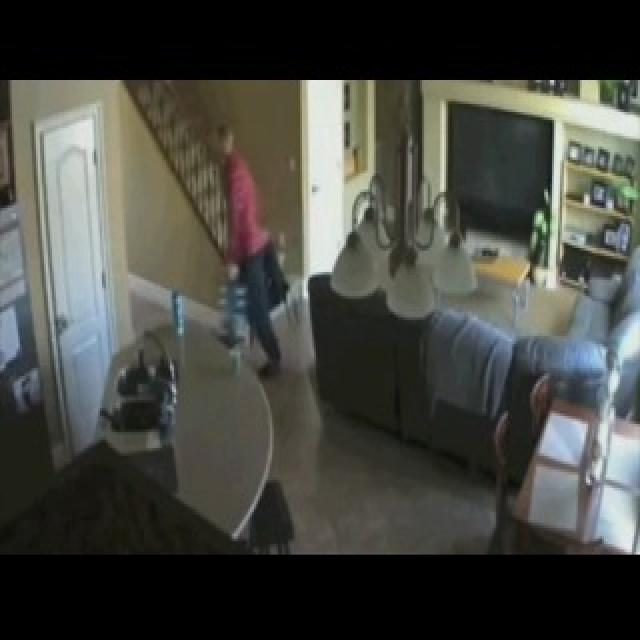thief: (200, 111, 285, 304)
